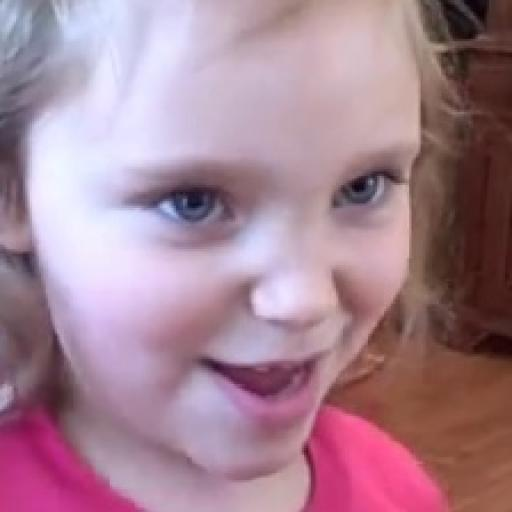Autism: (6, 14, 498, 484)
